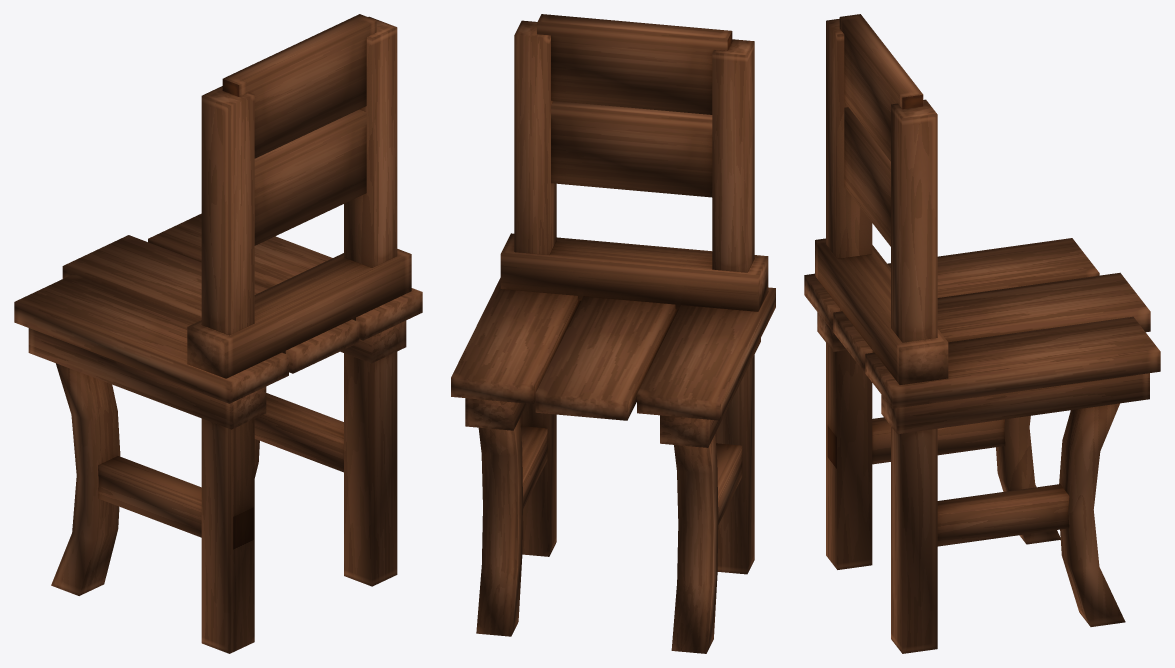
The model's file is ChairDone.fbx.
3 renders of one model, left to right at view 1: azimuth 30°, elevation 25°; view 2: azimuth 150°, elevation 25°; view 3: azimuth 270°, elevation 25°, orthographic. The views are drawn at different scales.
Visible parts, largest first — view 1: Cube.002; view 2: Cube.002; view 3: Cube.002.
Boxes of the visible parts, left/top/right/bottom form: Cube.002: left=14, top=14, right=422, bottom=653; Cube.002: left=451, top=14, right=775, bottom=653; Cube.002: left=804, top=14, right=1160, bottom=653.
Bounding box in the file's own units: 171 × 289 × 171.
1 material, 1 textured.
